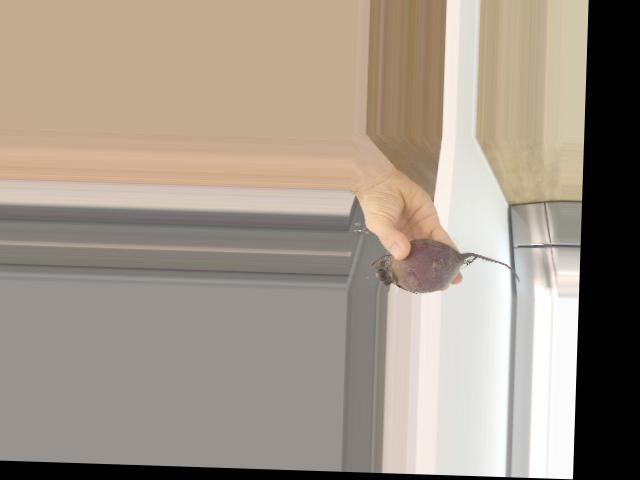beet: (370, 237, 520, 297)
